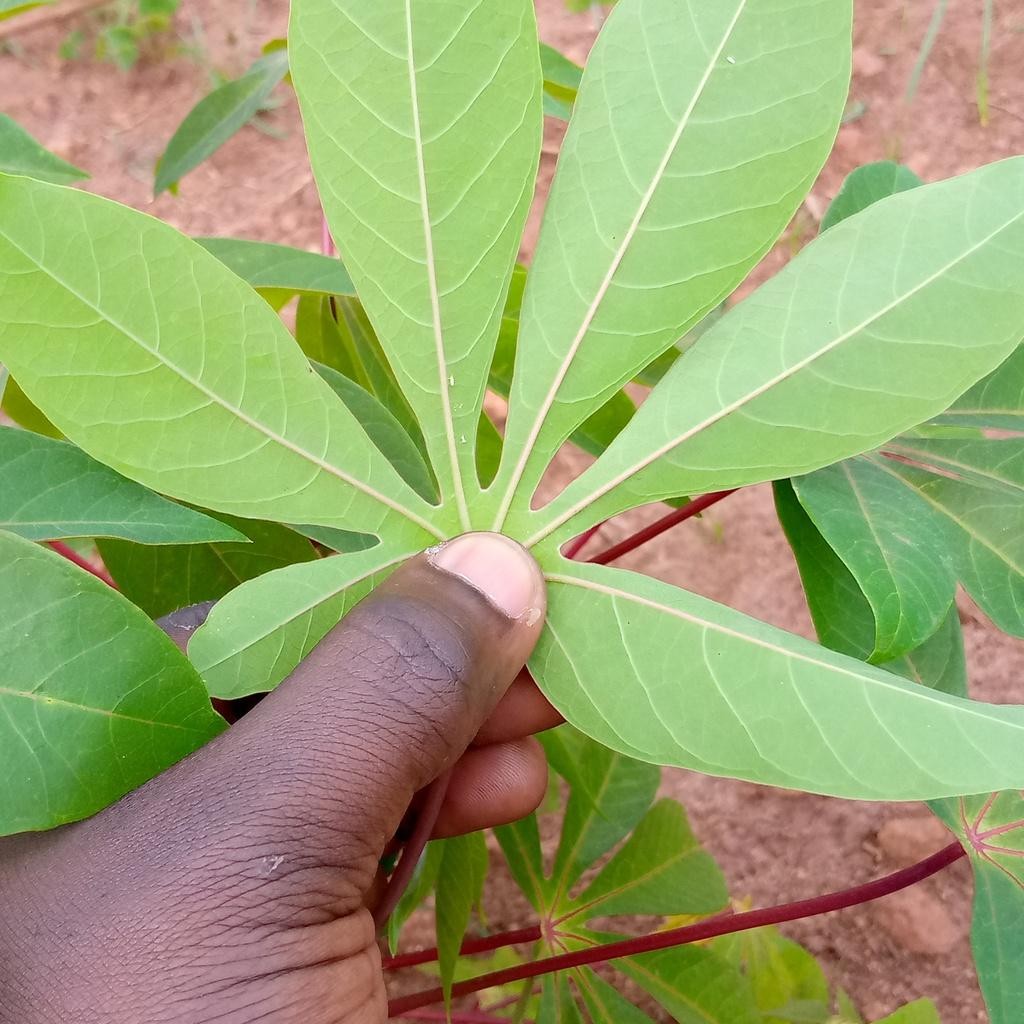adult: (726, 56, 736, 64), (448, 375, 455, 386), (460, 435, 467, 444)
